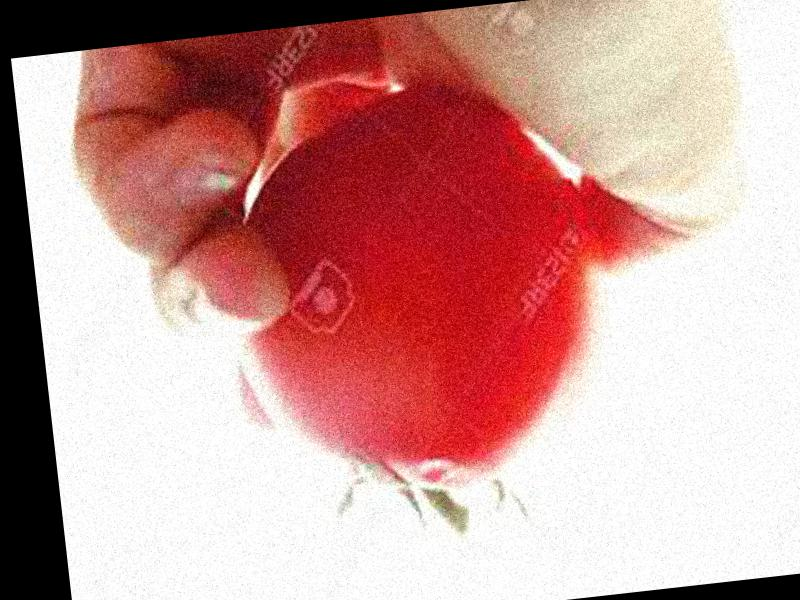Tomato: (210, 76, 622, 515)
